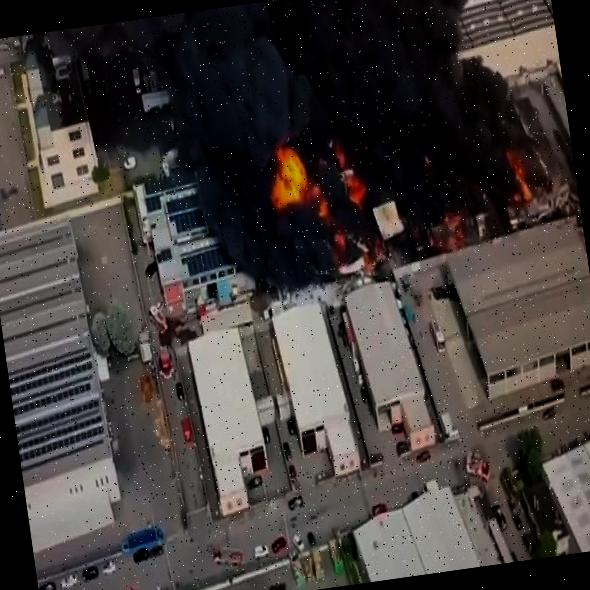smoke: (36, 0, 482, 156)
